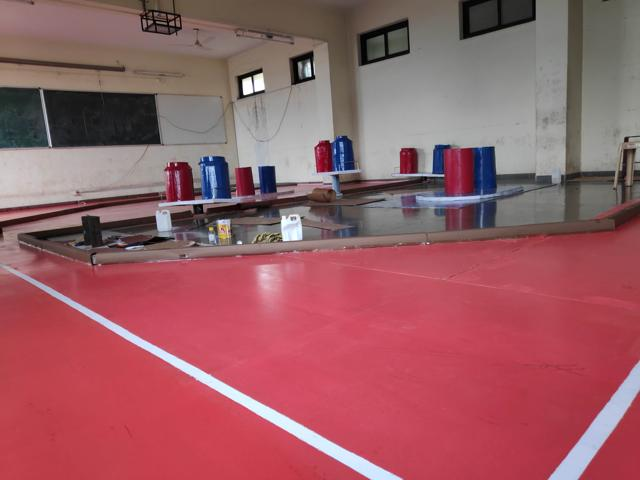Blue: (199, 155, 230, 200), (476, 146, 497, 195), (331, 133, 354, 170), (257, 165, 275, 195), (433, 145, 442, 173)
Red: (444, 147, 476, 196), (165, 162, 192, 200), (312, 137, 331, 172), (399, 146, 420, 177), (235, 166, 254, 198)
